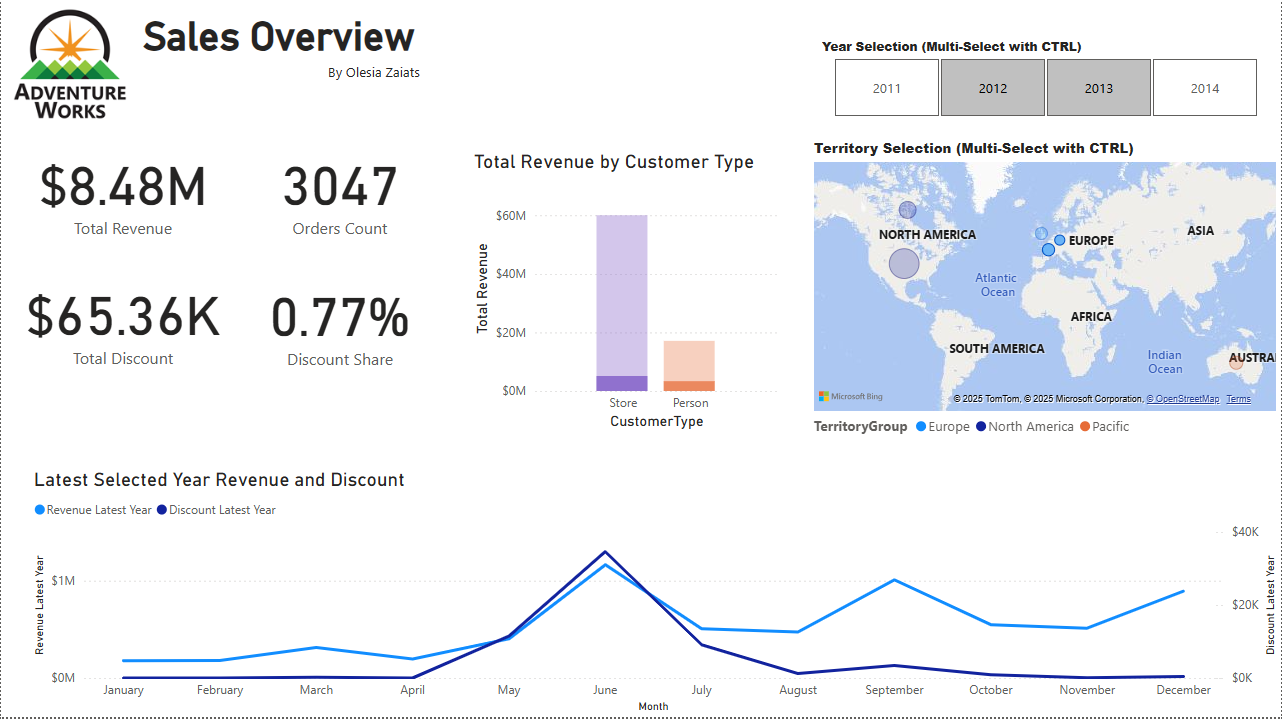

What the dashboard file says about the page in this screenshot:
{"tool":"powerbi","page":{"name":"Sales Overview","canvas":[1280,720],"ordinal":0},"visuals":[{"type":"card","fields":{"Values":["SalesInsights fct_SalesOrderDetails.Total Revenue"]},"box":[0,142,244,101],"z":0},{"type":"card","fields":{"Values":["SalesInsights fct_SalesOrderDetails.Total Discount"]},"box":[0,271,244,102],"z":1000},{"type":"card","fields":{"Values":["SalesInsights fct_SalesOrderDetails.Discount Share"]},"box":[254,271,170,105],"z":2000},{"type":"card","fields":{"Values":["SalesInsights fct_SalesOrderDetails.Orders Count"]},"box":[254,141,170,102],"z":3000},{"type":"lineChart","title":"Latest Selected Year Revenue and Discount","fields":{"Category":["SalesInsights dim_Date.DateValue.Variation.Date Hierarchy.Quarter","SalesInsights dim_Date.DateValue.Variation.Date Hierarchy.Month","SalesInsights dim_Date.DateValue.Variation.Date Hierarchy.Day"],"Y":["SalesInsights fct_SalesOrderDetails.Revenue Latest Year"],"Y2":["SalesInsights fct_SalesOrderDetails.Discount Latest Year"]},"box":[28,471,1252,249],"z":4000},{"type":"slicer","fields":{"Values":["SalesInsights dim_Date.Year"]},"box":[808,36,472,90],"z":5000},{"type":"map","title":"Territory Selection (Multi-Select with CTRL)","fields":{"Category":["SalesInsights dim_Customer.TerritoryCountry"],"Series":["SalesInsights dim_Customer.TerritoryGroup"],"Size":["SalesInsights fct_SalesOrderDetails.Total Revenue"]},"box":[808,141,472,307],"z":6000},{"type":"columnChart","title":"Total Revenue by Customer Type","fields":{"Category":["SalesInsights dim_Customer.CustomerType"],"Y":["SalesInsights fct_SalesOrderDetails.Total Revenue"]},"box":[468,153,314,284],"z":7000},{"type":"image","box":[0,0,137,134],"z":8000},{"type":"textbox","title":"Sales Overview","box":[137,16,287,73],"z":9000}]}

Visuals, with their boxes in screenshot pixels (x1, y1, x2, y2), scaled from the page's 1280x720 canvas onto the 1282x719 screenshot:
card - SalesInsights fct_SalesOrderDetails.Total Revenue: 0,142,244,243
card - SalesInsights fct_SalesOrderDetails.Total Discount: 0,271,244,372
card - SalesInsights fct_SalesOrderDetails.Discount Share: 254,271,425,375
card - SalesInsights fct_SalesOrderDetails.Orders Count: 254,141,425,243
"Latest Selected Year Revenue and Discount" lineChart: 28,470,1281,718
slicer - SalesInsights dim_Date.Year: 809,36,1281,126
"Territory Selection (Multi-Select with CTRL)" map: 809,141,1281,447
"Total Revenue by Customer Type" columnChart: 469,153,783,436
image: 0,0,137,134
"Sales Overview" textbox: 137,16,425,89
